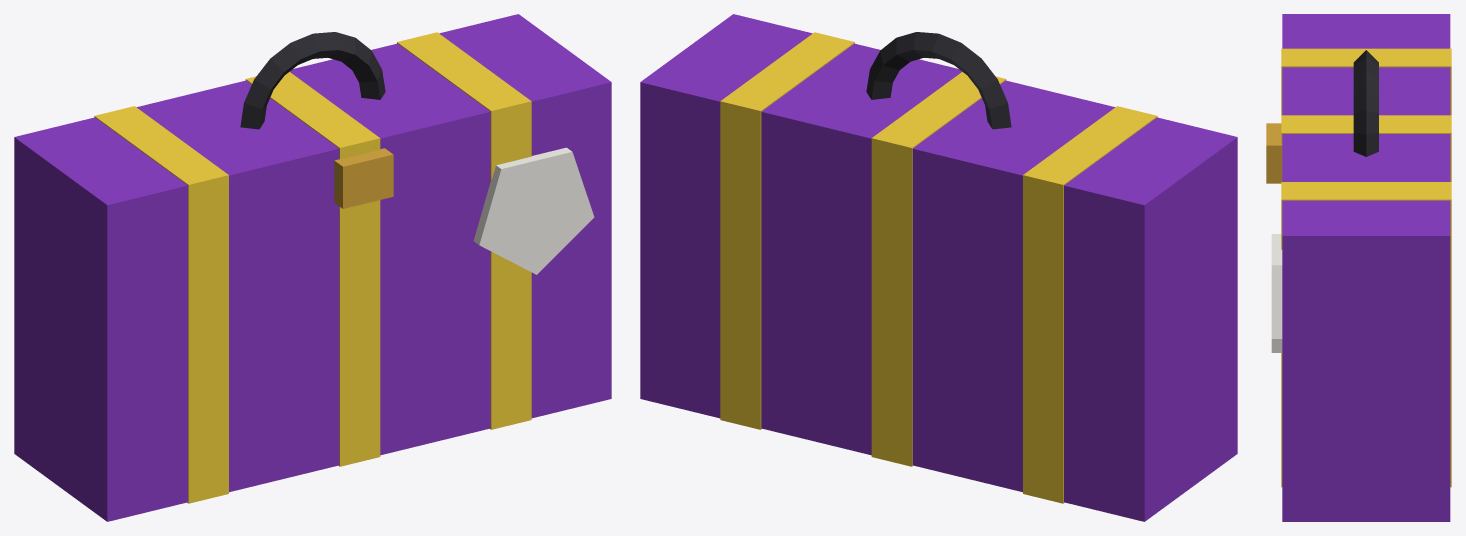
The model's file is chispita_case.glb.
The picture shows the model from 3 angles, left to right: view 1: azimuth 30°, elevation 25°; view 2: azimuth 150°, elevation 25°; view 3: azimuth 270°, elevation 25°; orthographic projection. The views are drawn at different scales.
Visible parts, largest first — view 1: case_case_purple, case_case_stripe, star_white, handle_case_handle, clasp_case_brass; view 2: case_case_purple, case_case_stripe, handle_case_handle; view 3: case_case_purple, case_case_stripe, handle_case_handle, star_white, clasp_case_brass.
Boxes of the visible parts, x1,y1,x2,y2 form: case_case_purple: (14,14,611,521); case_case_stripe: (94,32,531,503); star_white: (473,147,594,274); handle_case_handle: (240,32,385,129); clasp_case_brass: (334,148,393,208); case_case_purple: (640,14,1237,521); case_case_stripe: (720,32,1157,503); handle_case_handle: (866,32,1011,129); case_case_purple: (1282,14,1450,521); case_case_stripe: (1281,48,1451,487); handle_case_handle: (1353,50,1378,156); star_white: (1271,234,1282,352); clasp_case_brass: (1266,123,1282,183).
Bounding box in the file's own units: 0.5 × 0.373 × 0.176.
